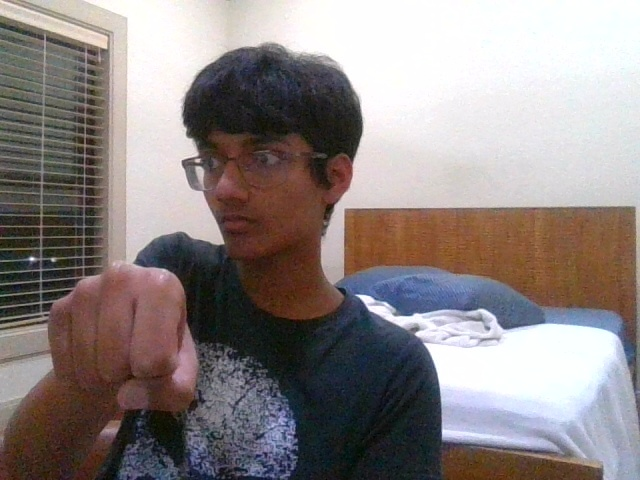yes: (47, 262, 198, 409)
